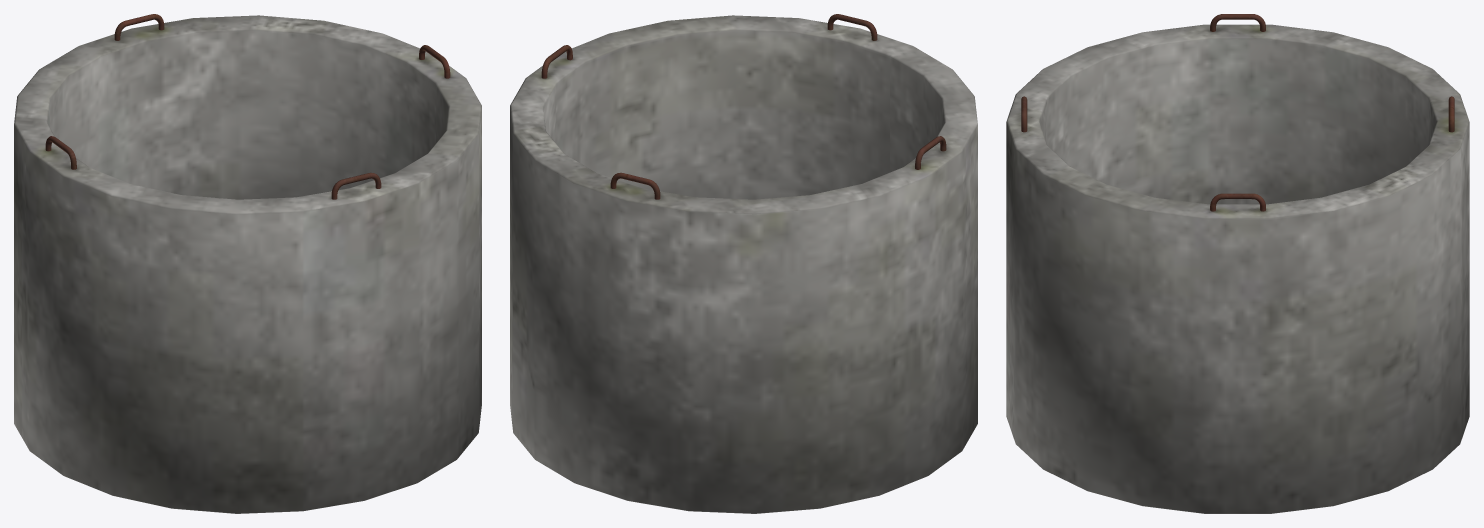
Rendered from con-pipe.lod0.glb.
The picture shows the model from 3 angles, left to right: view 1: azimuth 30°, elevation 25°; view 2: azimuth 150°, elevation 25°; view 3: azimuth 270°, elevation 25°; orthographic projection.
Parts seen in each view (by area): view 1: Concrete_Pipe1_Concrete_Pipe1_0, Concrete_Pipe1_Metal_Parts1_0; view 2: Concrete_Pipe1_Concrete_Pipe1_0, Concrete_Pipe1_Metal_Parts1_0; view 3: Concrete_Pipe1_Concrete_Pipe1_0, Concrete_Pipe1_Metal_Parts1_0.
Part boxes in pixels (bbox=[...]): Concrete_Pipe1_Concrete_Pipe1_0: bbox=[14, 15, 481, 513]; Concrete_Pipe1_Metal_Parts1_0: bbox=[45, 14, 450, 199]; Concrete_Pipe1_Concrete_Pipe1_0: bbox=[510, 15, 977, 513]; Concrete_Pipe1_Metal_Parts1_0: bbox=[541, 14, 946, 199]; Concrete_Pipe1_Concrete_Pipe1_0: bbox=[1006, 24, 1469, 513]; Concrete_Pipe1_Metal_Parts1_0: bbox=[1021, 14, 1454, 211].
Size of the model in its own units: 2.18 by 1.65 by 2.2.
Materials: 2 (2 with a texture image).
